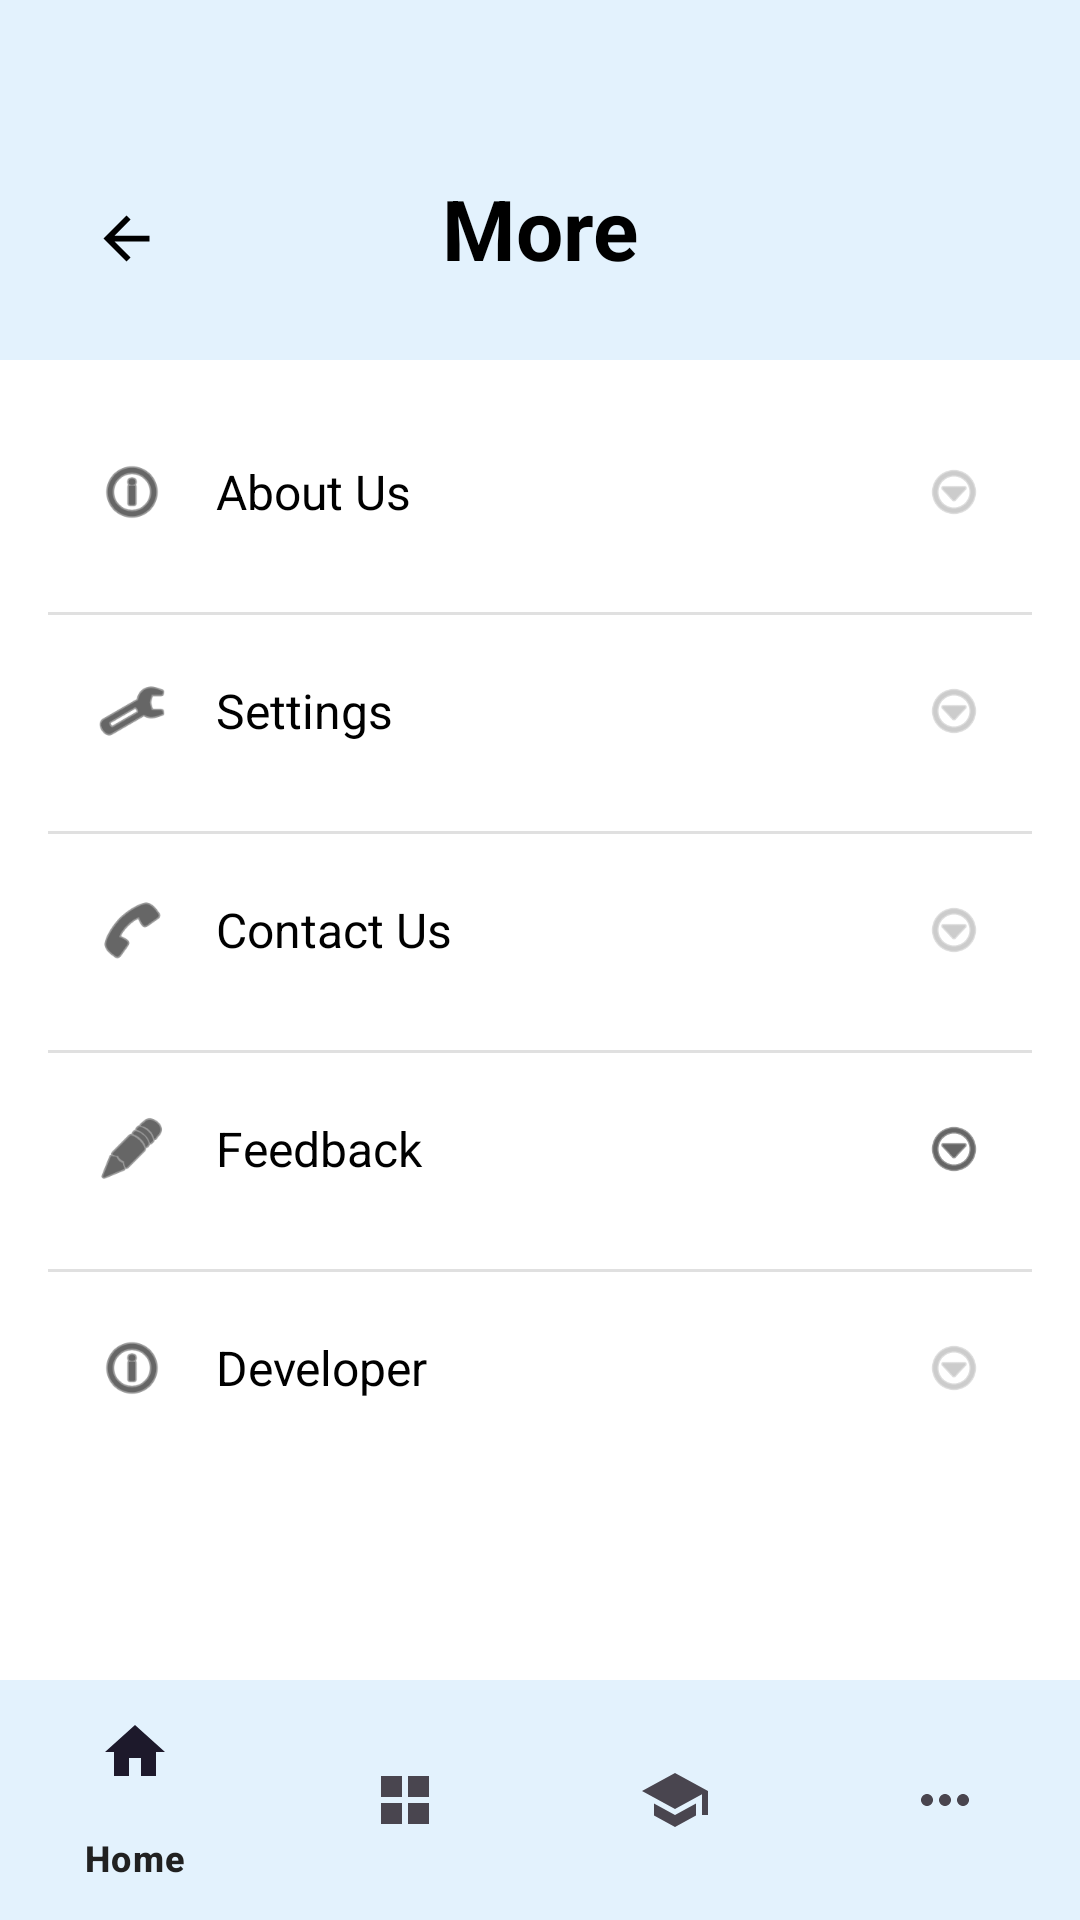

Icon bounding boxes for this 1080×1920 phone screenshot, format (x1, y1, x2, y2):
Back: (103, 215, 150, 262)
